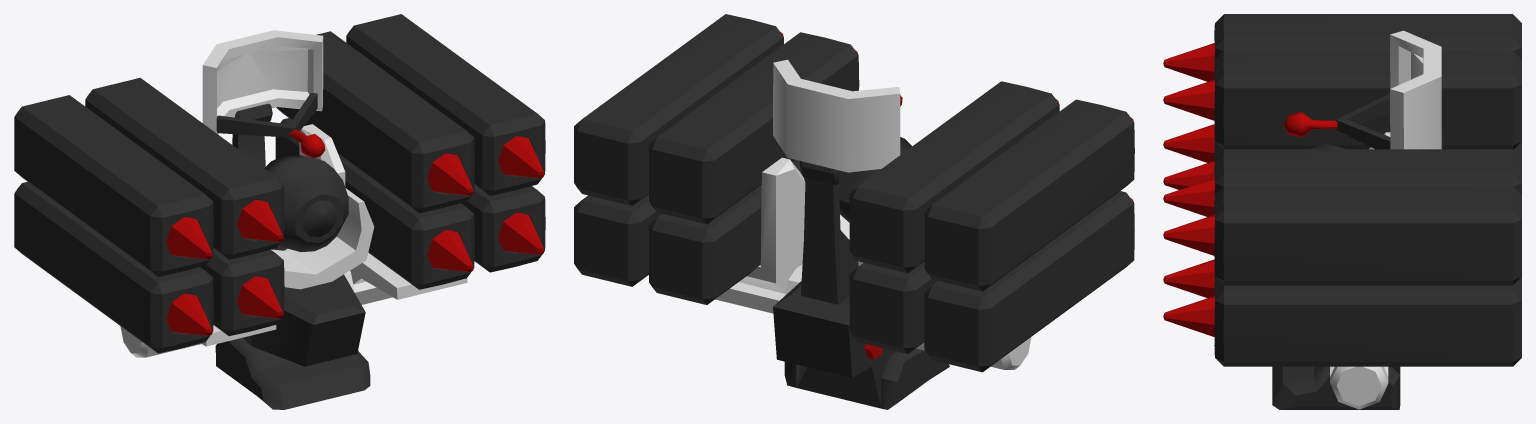
File: RocketTurret2.fbx
3 views of the same model, side by side, from view 1: azimuth 30°, elevation 25°; view 2: azimuth 150°, elevation 25°; view 3: azimuth 270°, elevation 25° (orthographic). The views are drawn at different scales.
Parts seen in each view (by area): view 1: polySurface54; view 2: polySurface54; view 3: polySurface54.
Part boxes in pixels (box(x1,y1,x2,y2)): polySurface54: box(14, 14, 545, 409); polySurface54: box(574, 14, 1134, 409); polySurface54: box(1163, 14, 1521, 409).
Bounding box in the file's own units: 261 × 192 × 193.
